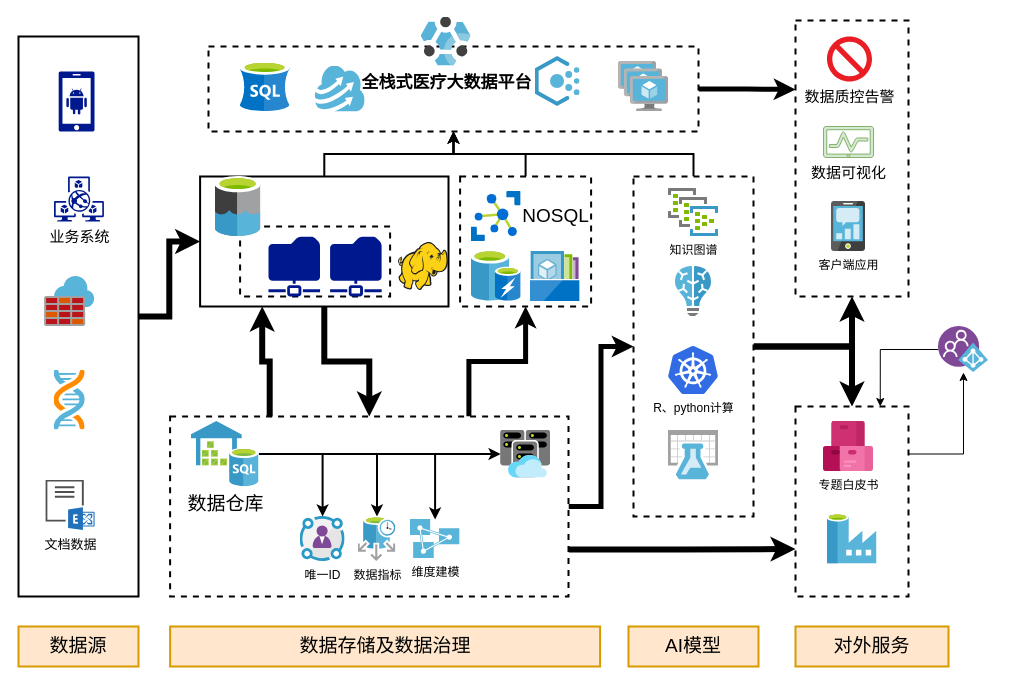
Image size: 1010x685. Some labels were removed from this diagram. The shapes that lost their labels are listed below. From the top down, each one's centre as x and y in pixels, then its label:
point 76,101: 移动及穿戴
point 237,206: 数据湖
point 69,301: 省平台
point 693,291: 预测分析
point 963,349: 个性化数据 服务模型
point 69,400: 生信数据
point 525,454: 数据集市
point 693,455: 机器学习
point 851,539: 应用转化
